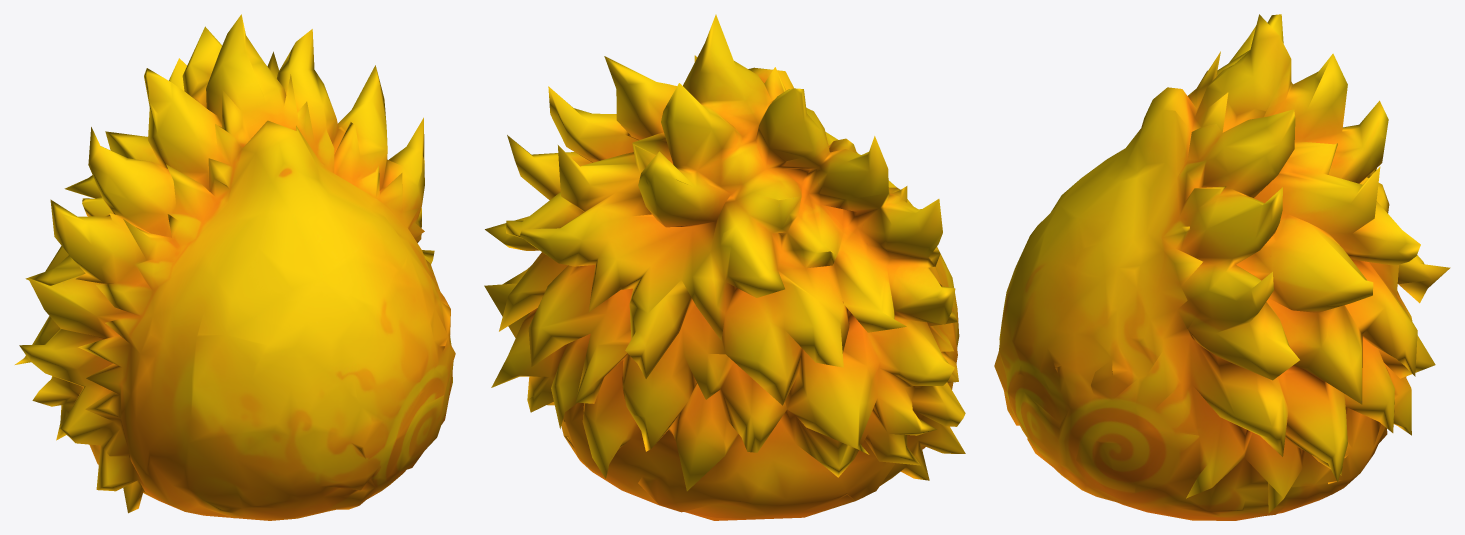
Rendered from sun_lion.glb.
3 renders of one model, left to right at view 1: azimuth 30°, elevation 25°; view 2: azimuth 150°, elevation 25°; view 3: azimuth 270°, elevation 25°, orthographic. The views are drawn at different scales.
Parts seen in each view (by area): view 1: tripo_node_9d9f46ce-fecc-4d97-bae3-7048f7bdcb19; view 2: tripo_node_9d9f46ce-fecc-4d97-bae3-7048f7bdcb19; view 3: tripo_node_9d9f46ce-fecc-4d97-bae3-7048f7bdcb19.
Boxes of the visible parts, x1=… form: tripo_node_9d9f46ce-fecc-4d97-bae3-7048f7bdcb19: x1=15, y1=14, x2=455, y2=520; tripo_node_9d9f46ce-fecc-4d97-bae3-7048f7bdcb19: x1=484, y1=14, x2=965, y2=520; tripo_node_9d9f46ce-fecc-4d97-bae3-7048f7bdcb19: x1=994, y1=14, x2=1450, y2=520.
Bounding box in the file's own units: 0.9898 × 1 × 0.8746.
Materials: 1 (1 with a texture image).
